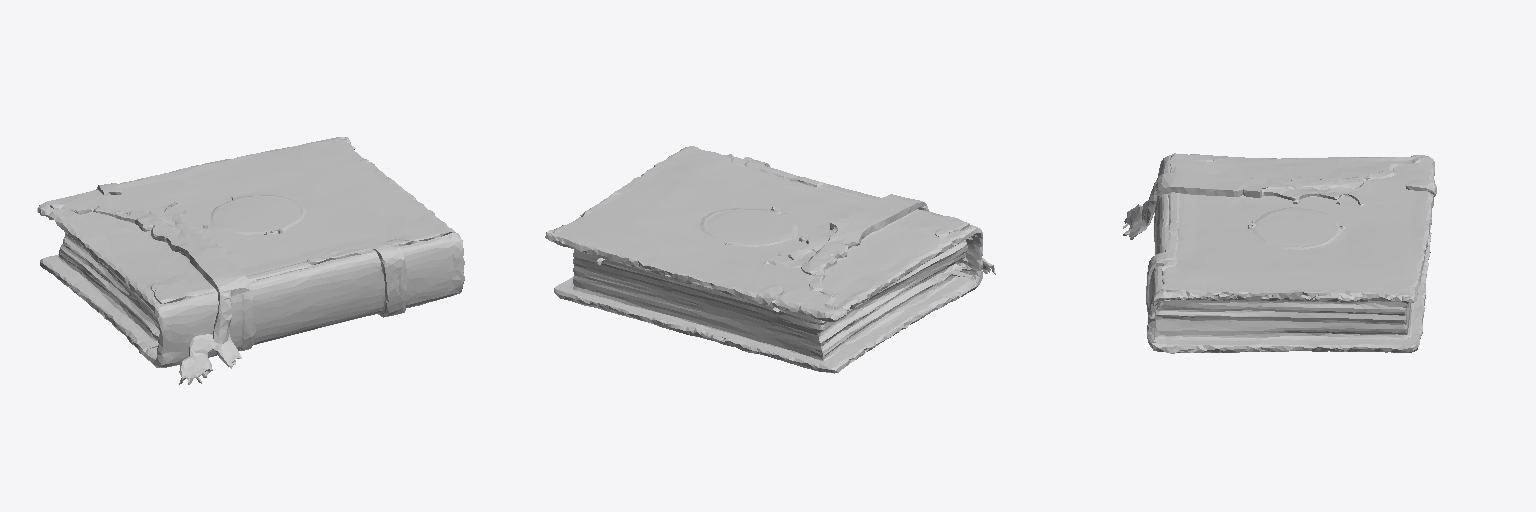
Rendered from old_book_close_0522014943_texture.obj.
The picture shows the model from 3 angles: view 1: azimuth 30°, elevation 25°; view 2: azimuth 150°, elevation 25°; view 3: azimuth 270°, elevation 25°; orthographic projection.
Visible parts, largest first — view 1: old_book_close_[number redacted]_texture; view 2: old_book_close_[number redacted]_texture; view 3: old_book_close_[number redacted]_texture.
Boxes of the visible parts, x1=… form: old_book_close_[number redacted]_texture: x1=37, y1=137, x2=464, y2=384; old_book_close_[number redacted]_texture: x1=545, y1=146, x2=995, y2=373; old_book_close_[number redacted]_texture: x1=1123, y1=153, x2=1436, y2=353.
Size of the model in its own units: 1.99 by 0.4701 by 1.73.